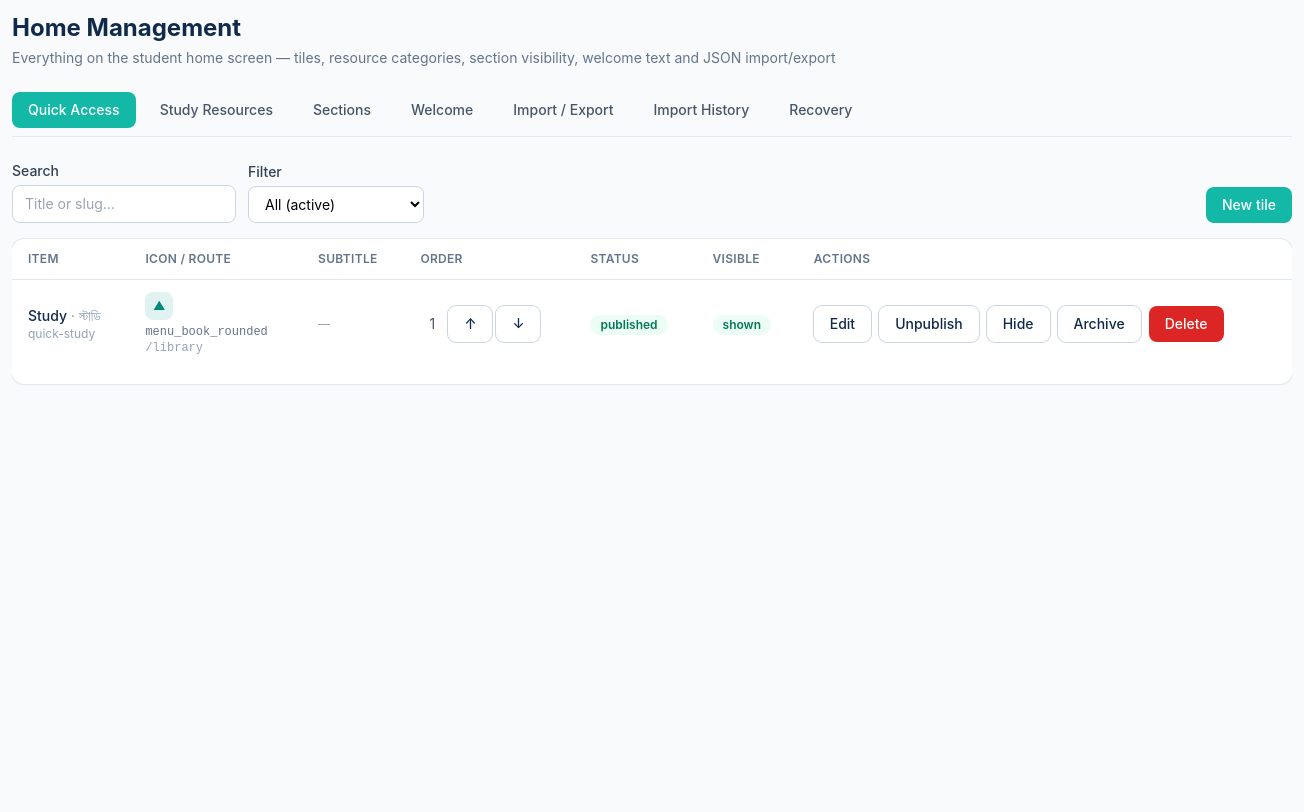
Test: HomeManagement page › switching tabs loads the corresponding section
Step 1. Click the tab "Sections" → [342, 110], box x1=297 y1=92 x2=387 y2=128
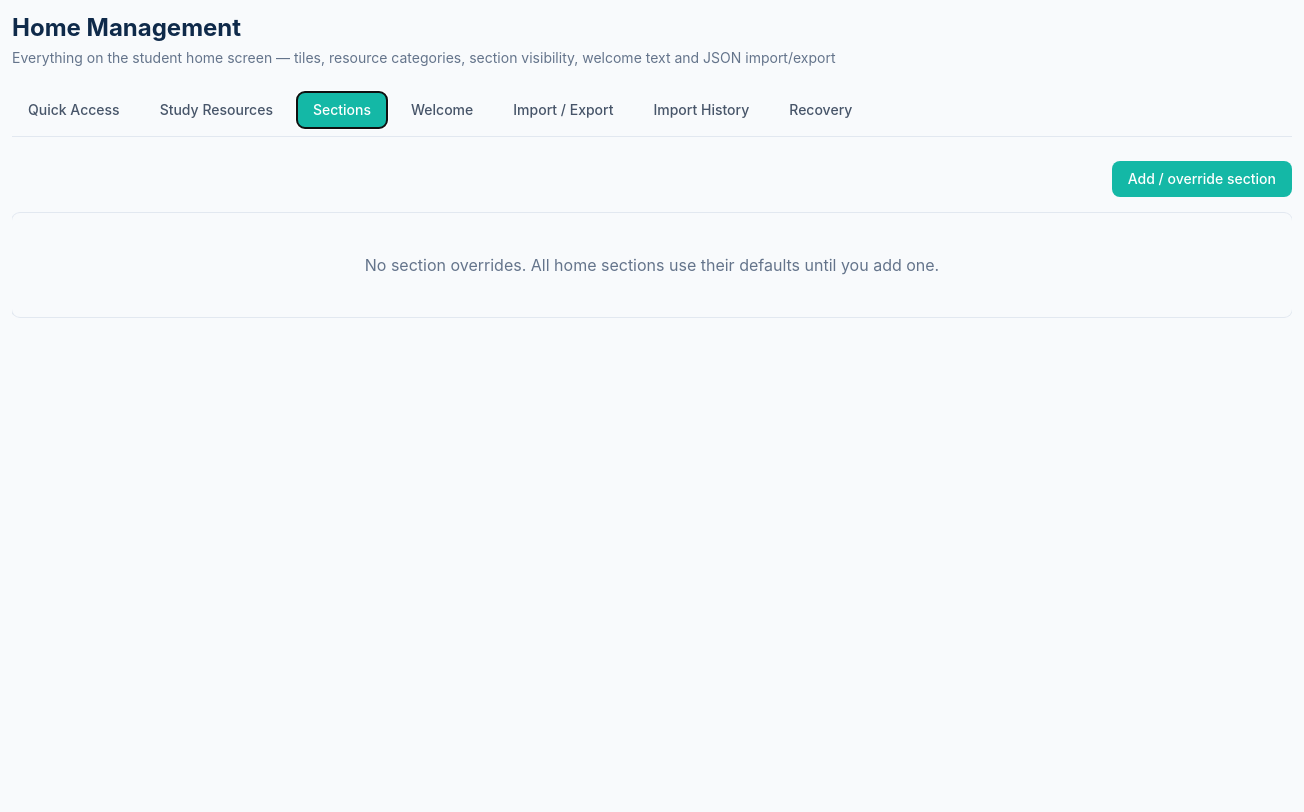
Now the text "No section overrides. All home sections use their defaults until you add one." is shown, box x1=12 y1=213 x2=1292 y2=317
Step 2. Click the tab "Recovery" → [821, 110], box x1=773 y1=92 x2=868 y2=128
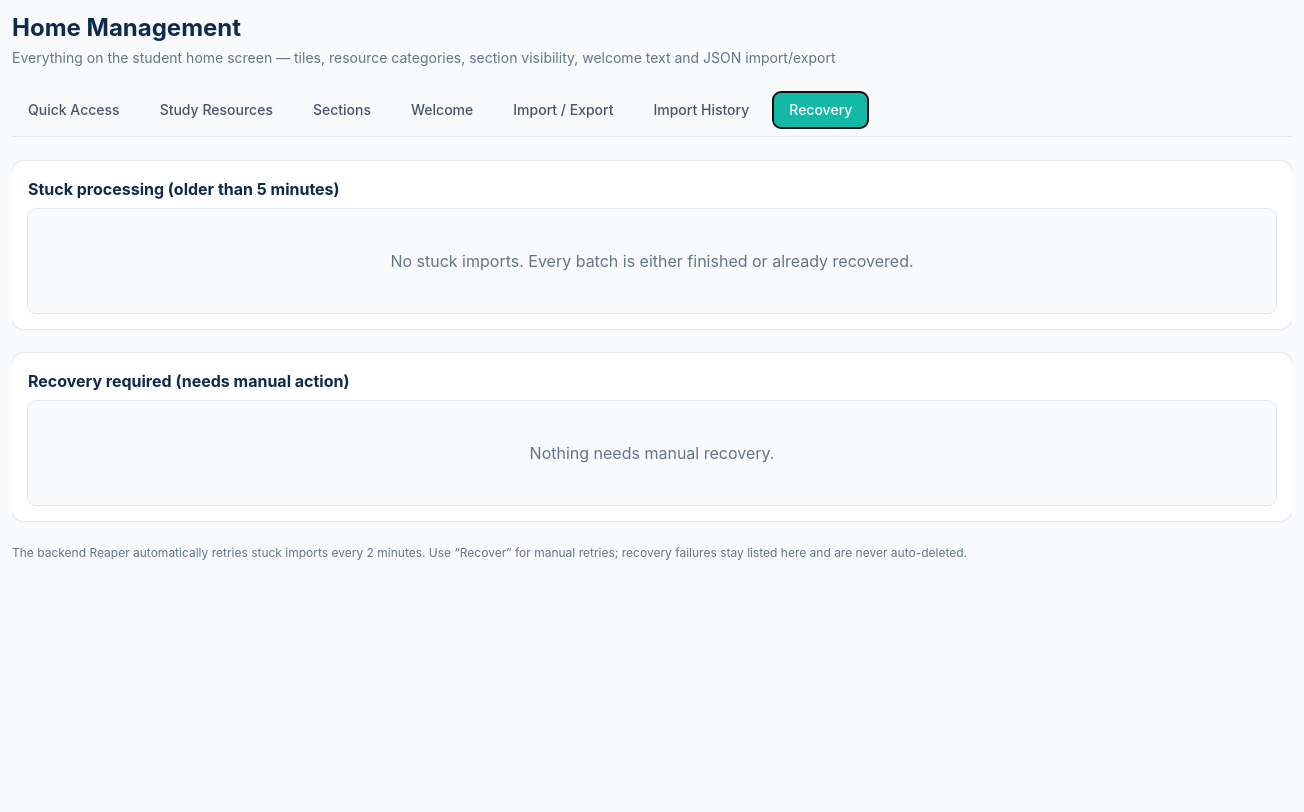
Now the text "Nothing needs manual recovery." is shown, box x1=28 y1=401 x2=1276 y2=505
